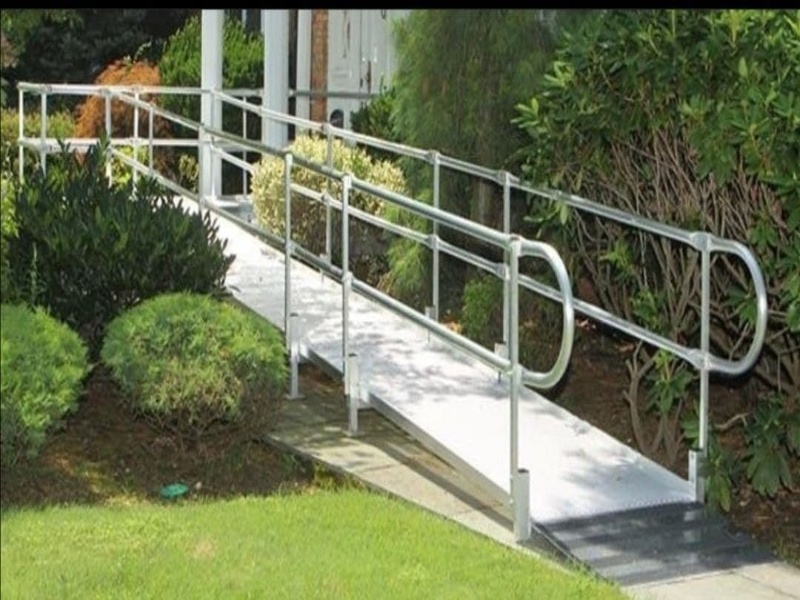slope: (214, 146, 716, 554)
